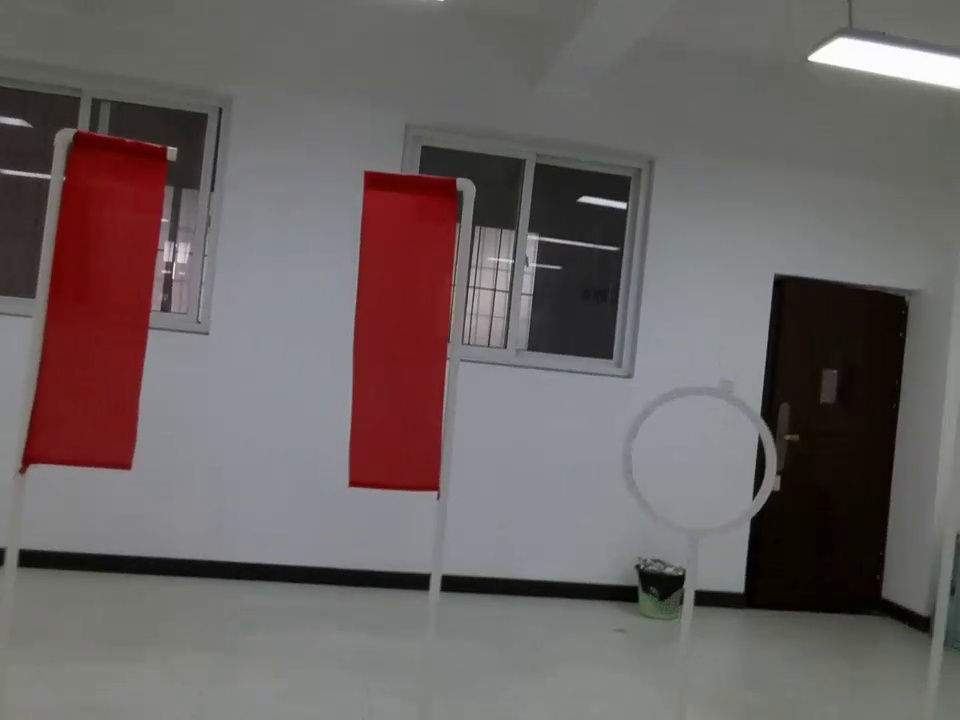qi: (19, 102, 182, 505), (340, 154, 472, 533)
quan: (616, 380, 779, 540)
